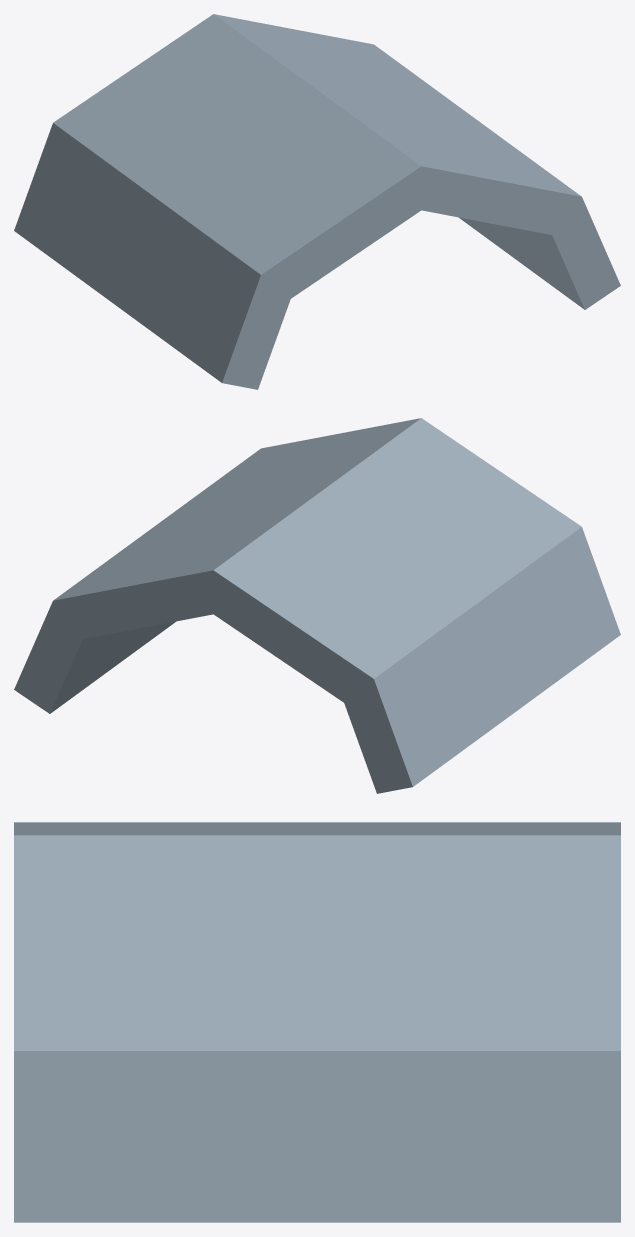
File: pipeGlass.FBX
3 views of the same model, one above another, from view 1: azimuth 30°, elevation 25°; view 2: azimuth 150°, elevation 25°; view 3: azimuth 270°, elevation 25° (orthographic). The views are drawn at different scales.
Visible parts, largest first — view 1: pipeGlass; view 2: pipeGlass; view 3: pipeGlass.
Part boxes in pixels (x1,y1,x2,y2): pipeGlass: (14,14,620,389); pipeGlass: (14,418,620,793); pipeGlass: (14,822,620,1222).
Size of the model in its own units: 4.3 by 1.89 by 3.89.
